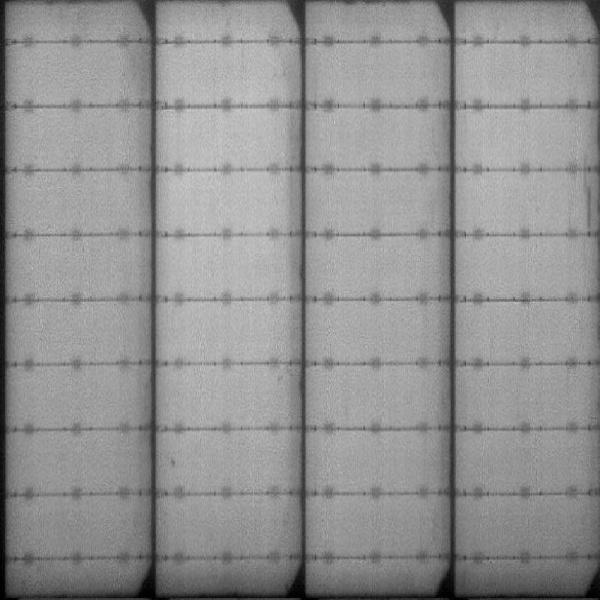scratch: (583, 182, 594, 231)
